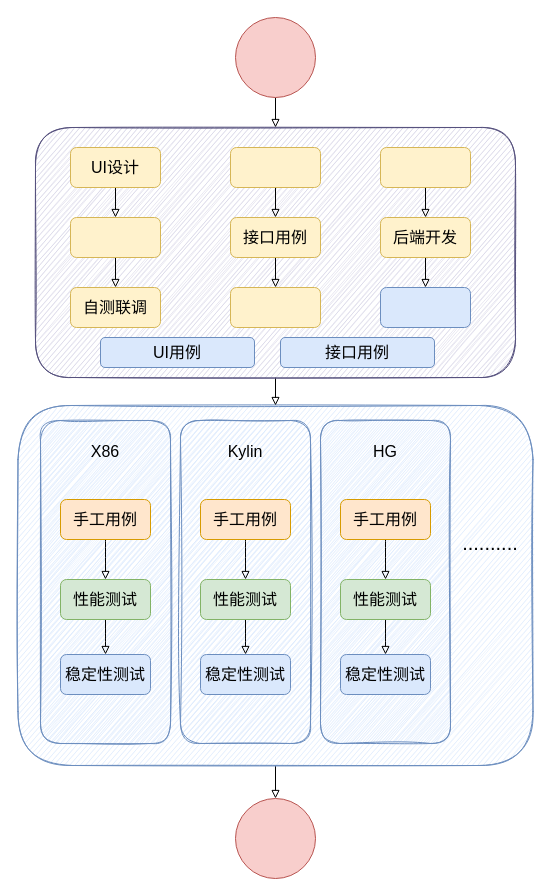
Image size: 550x896. Some labels were removed from this diagram. Each missing label, with the centre of its shape:
前端开发: the point at 115,237
接口测试: the point at 425,307
概要设计: the point at 425,167
测试用例: the point at 275,167
版本发布: the point at 275,838
用例评审: the point at 275,307
需求下发: the point at 275,57
